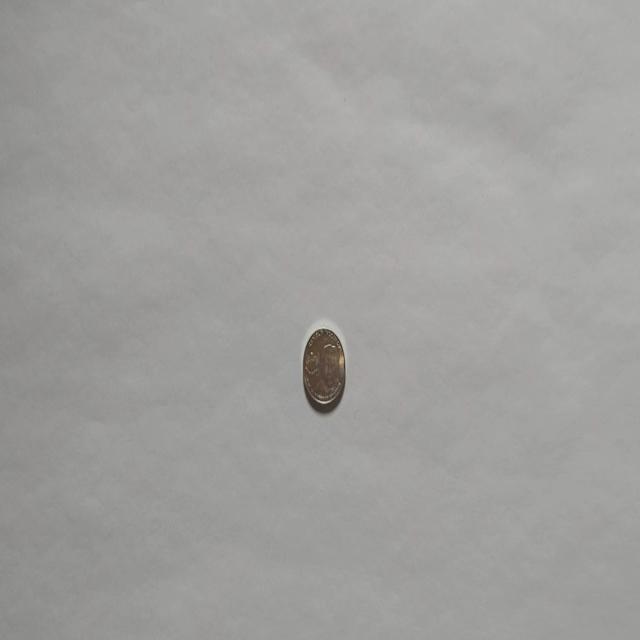seratus rupiah: (302, 326, 346, 412)
